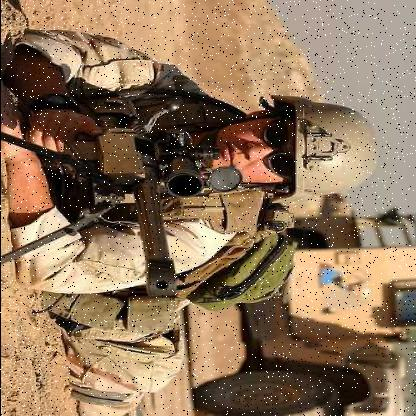rifle: (46, 86, 215, 308)
